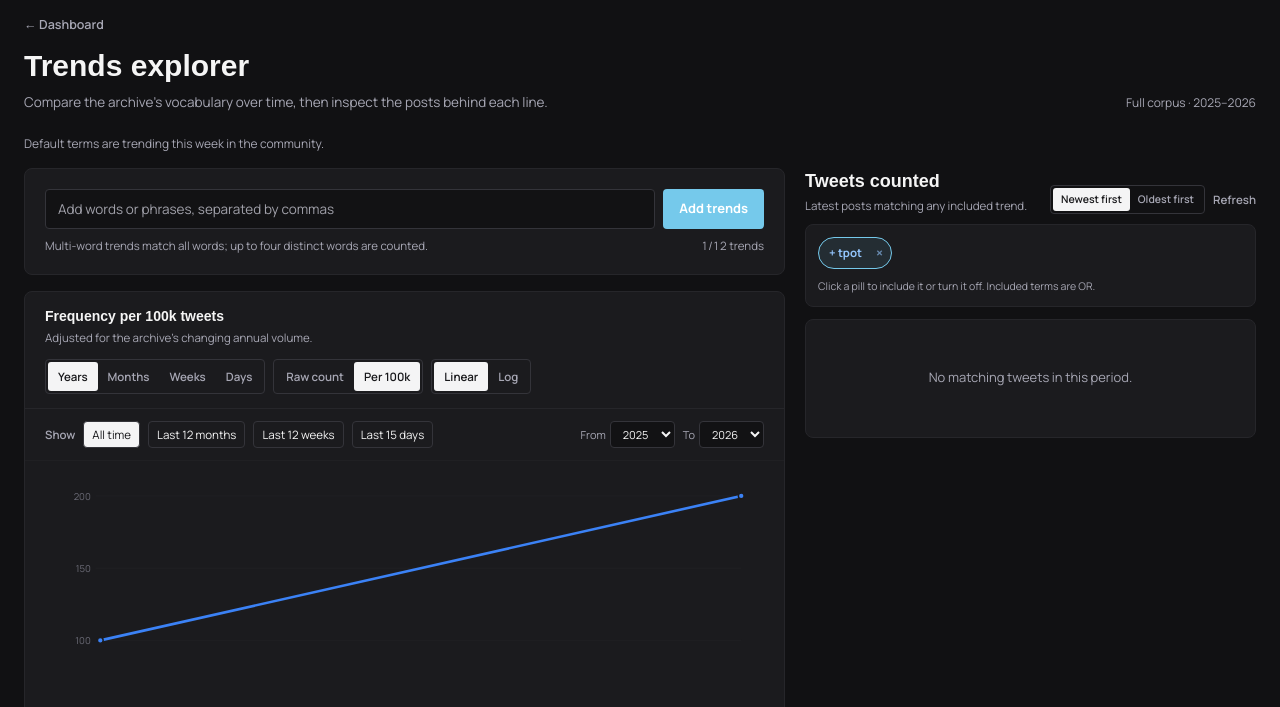
Test: TrendsExplorer request isolation › removes terms and uses a binary include filter
Click the button with aria-label "tpot is included. Click to turn it off." at (844, 253), box [819,238,868,268]
(page scrolled)
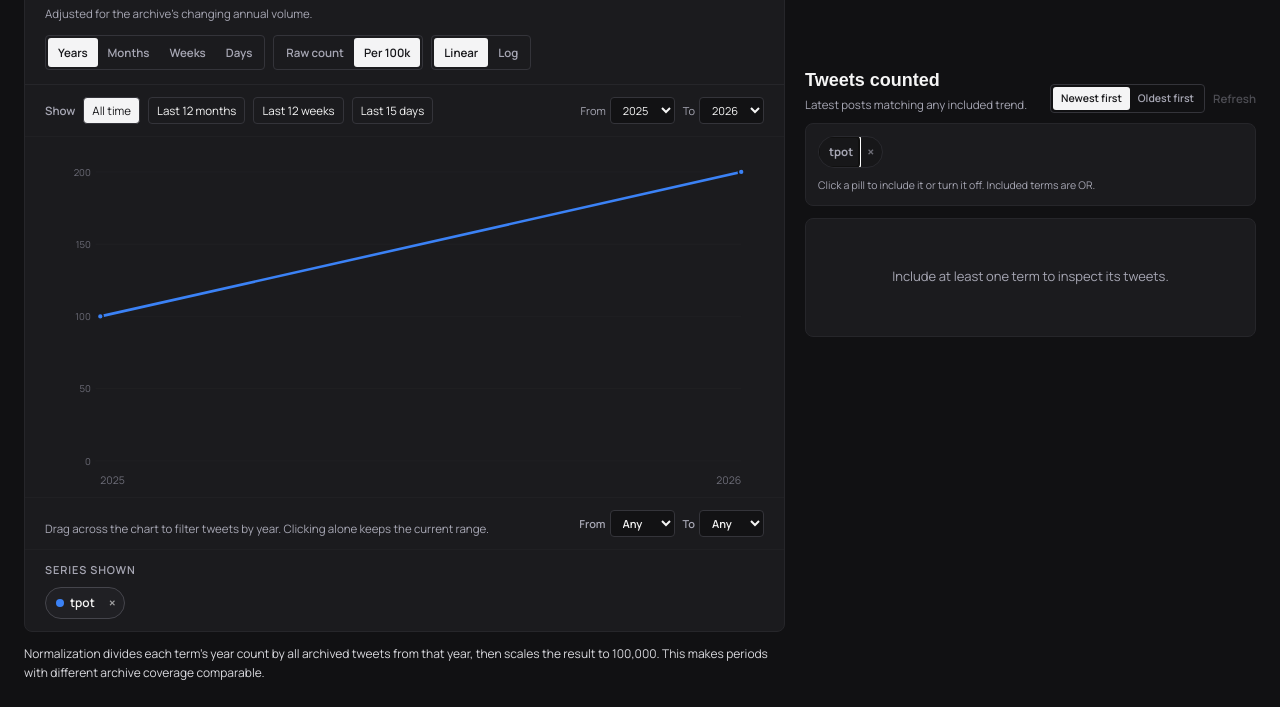
Expected: the button with aria-label "tpot is off. Click to include it." is shown, [819,137,859,167]
Click the button named "Remove tpot trend" at (112, 603), box [101,590,124,616]
(page scrolled)
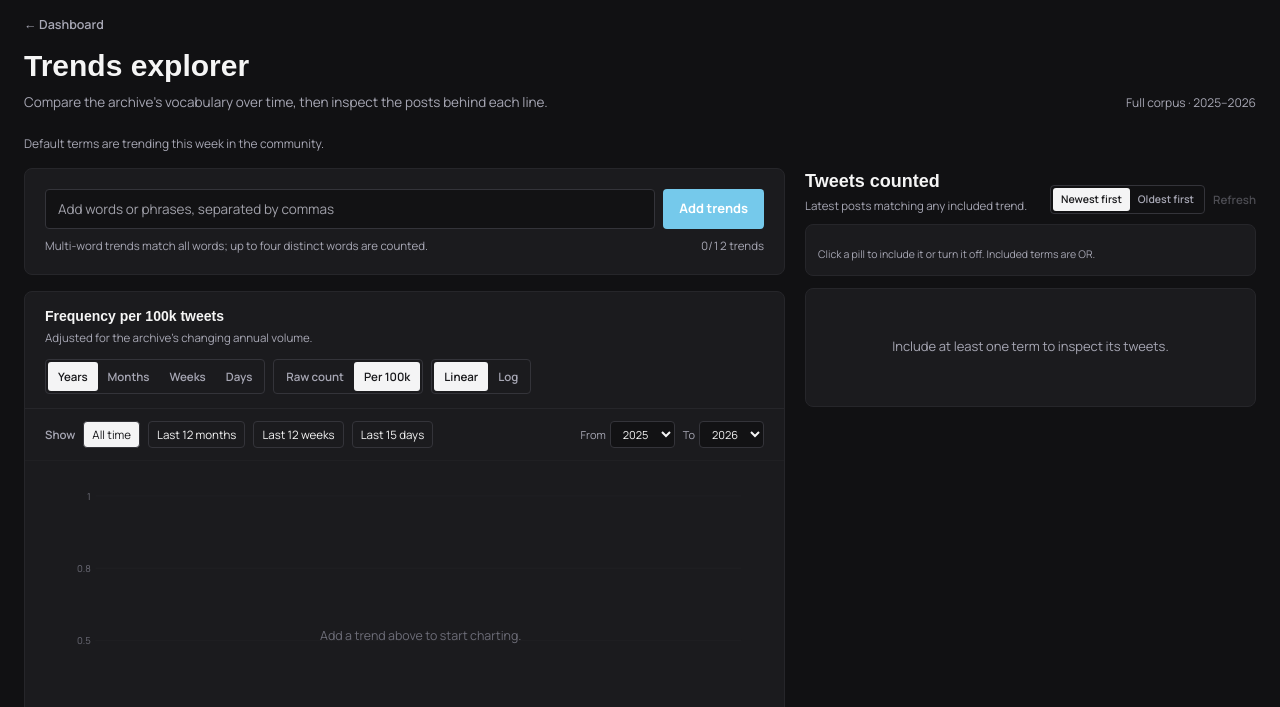
Expected: the text "0/12 trends" is shown, [701,237,764,254]
